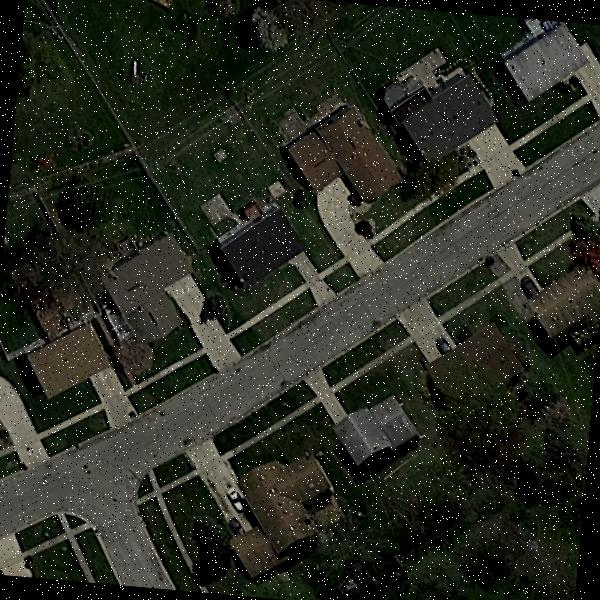Buildings: (396, 42, 498, 163), (290, 114, 398, 200), (246, 464, 330, 566), (110, 227, 184, 335), (433, 320, 515, 398), (18, 322, 101, 393), (512, 18, 586, 93), (228, 203, 298, 276), (344, 404, 423, 466), (540, 269, 600, 343)
